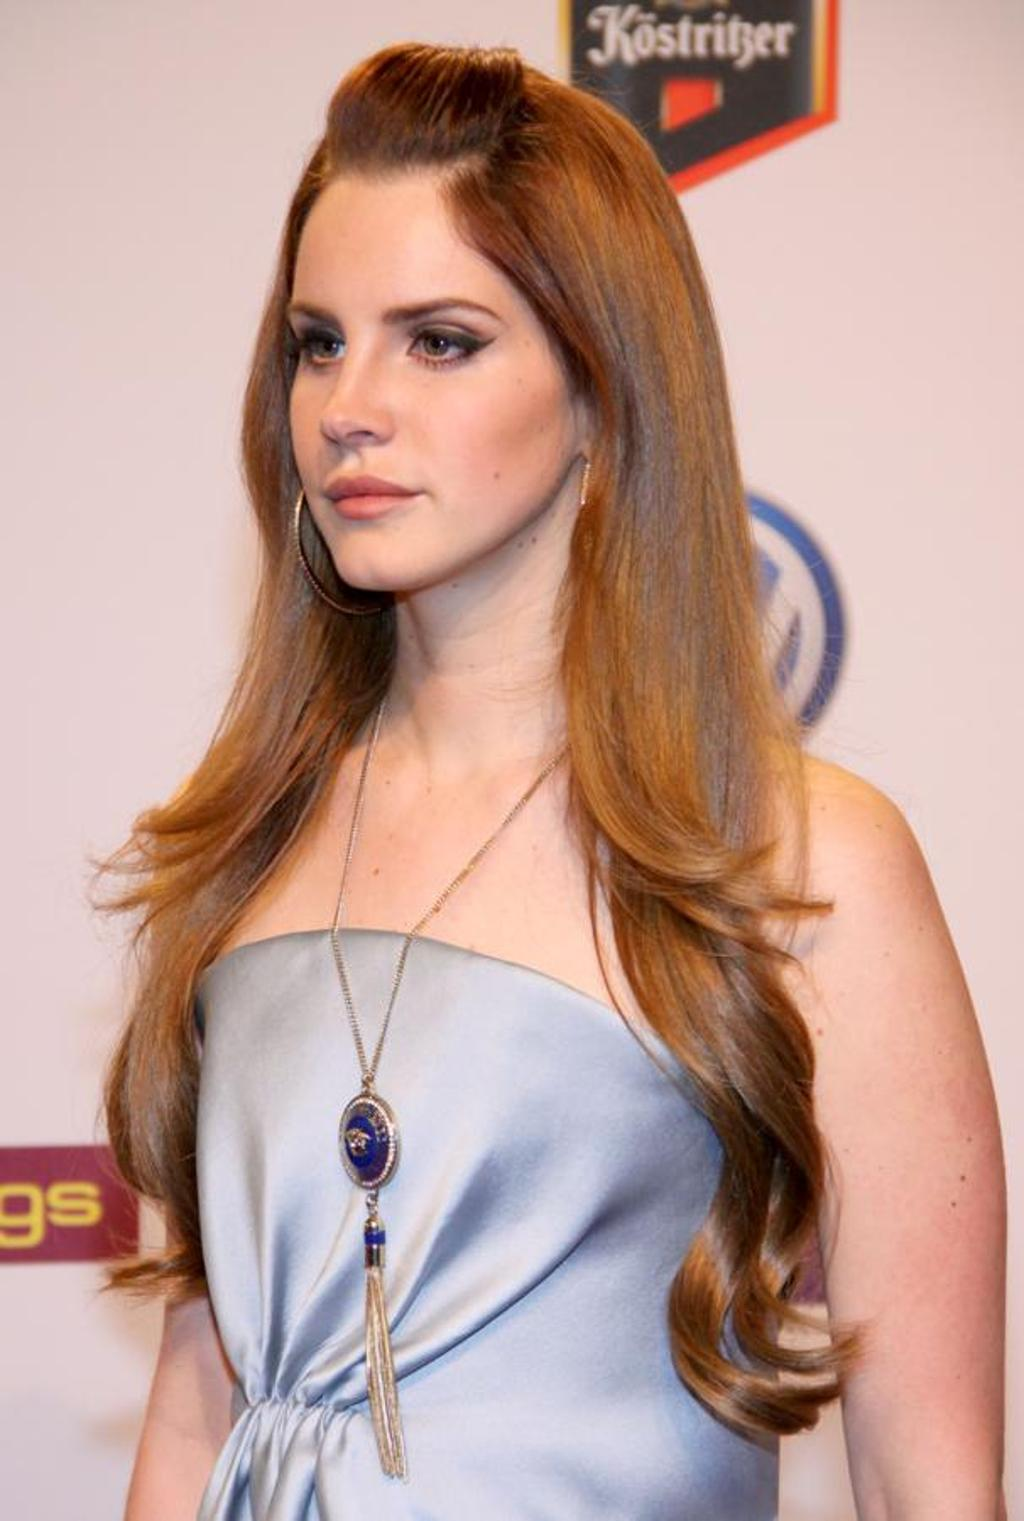face: (288, 151, 579, 590)
